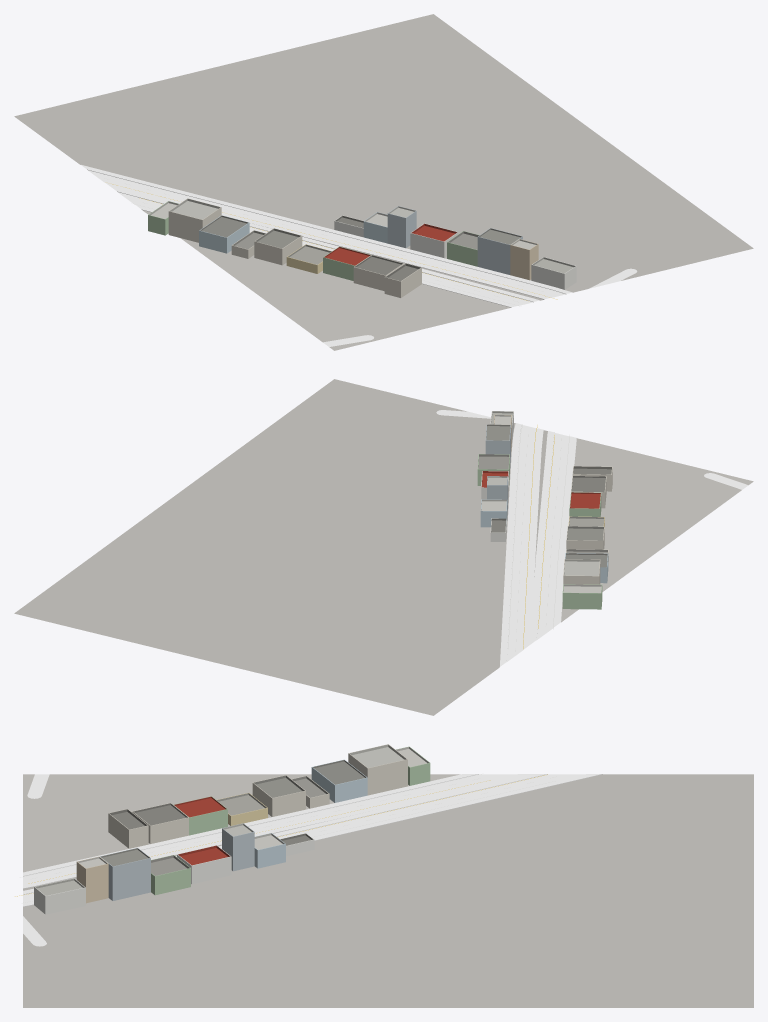
3 views of the same model, one above another, from view 1: azimuth 30°, elevation 25°; view 2: azimuth 150°, elevation 25°; view 3: azimuth 270°, elevation 25° (orthographic). The views are drawn at different scales.
Visible parts, largest first — view 1: ground, walls, roofs, asphalt, sidewalk; view 2: ground, asphalt, sidewalk, roofs, walls, markings; view 3: ground, walls, roofs, asphalt, sidewalk, markings.
Boxes of the visible parts, x1,y1,x2,y2 form: ground: (14, 14, 753, 350); walls: (148, 207, 576, 297); roofs: (148, 198, 576, 281); asphalt: (87, 170, 637, 346); sidewalk: (81, 165, 572, 307); ground: (14, 379, 753, 715); asphalt: (436, 410, 748, 661); sidewalk: (500, 423, 576, 666); roofs: (477, 411, 612, 593); walls: (477, 413, 612, 609); markings: (508, 424, 569, 651); ground: (23, 774, 753, 1007); walls: (34, 753, 430, 914); roofs: (34, 744, 429, 896); asphalt: (23, 774, 584, 946); sidewalk: (23, 774, 602, 906); markings: (15, 774, 556, 903).
Size of what is drawn, in the model's own units: 197 by 13.01 by 253.
